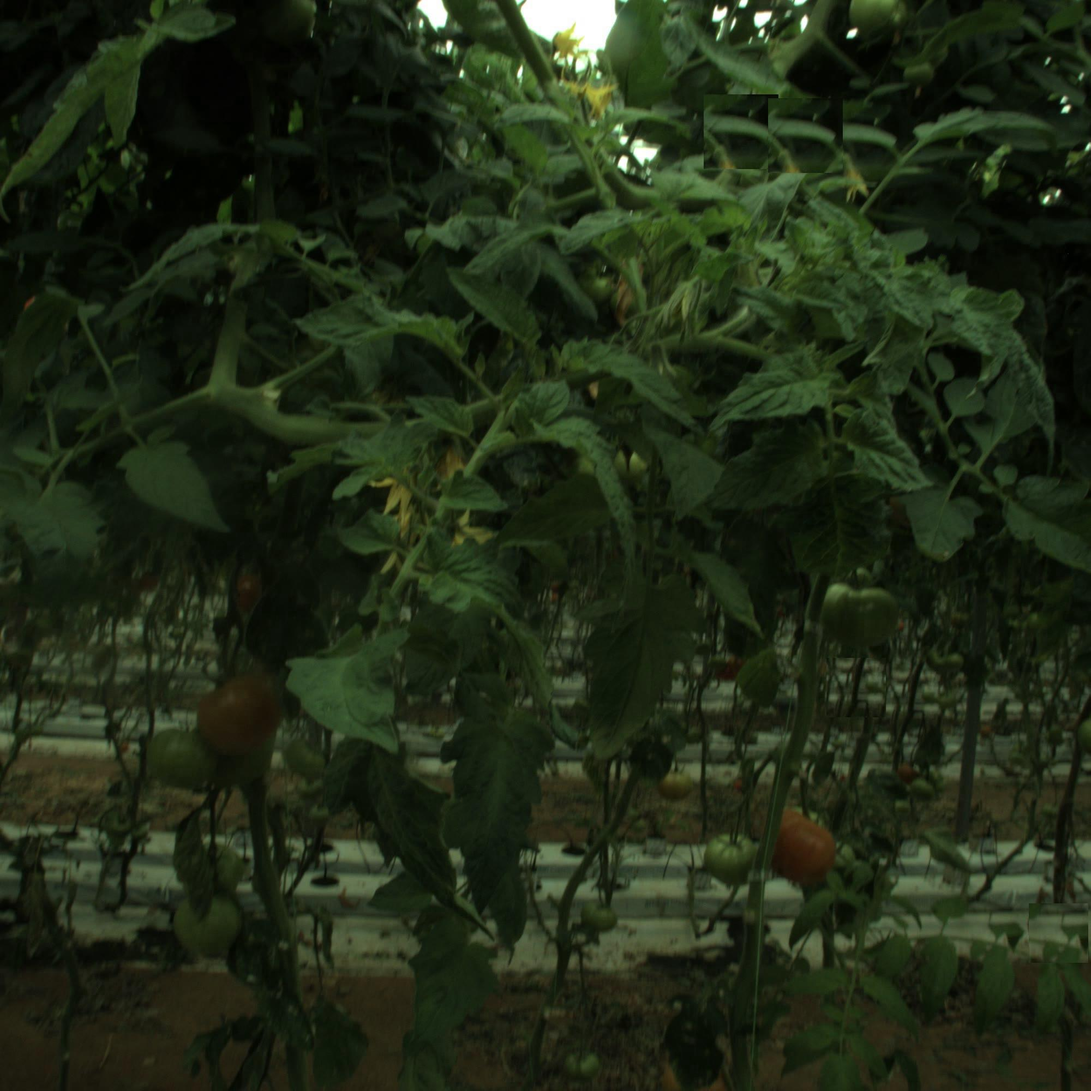fully-ripe: (768, 815, 832, 879)
semi-ripe: (203, 670, 286, 753)
unripe: (820, 565, 903, 648), (171, 890, 242, 961), (150, 724, 205, 779), (702, 826, 757, 881)
